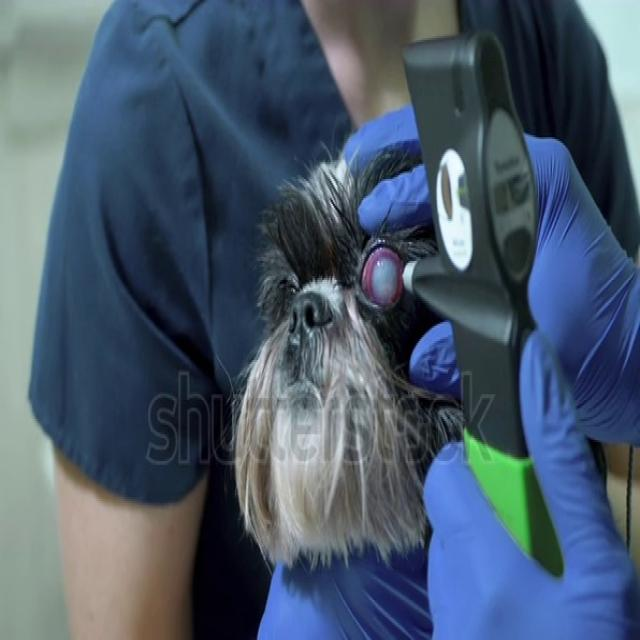injured-animals: (168, 116, 615, 601)
